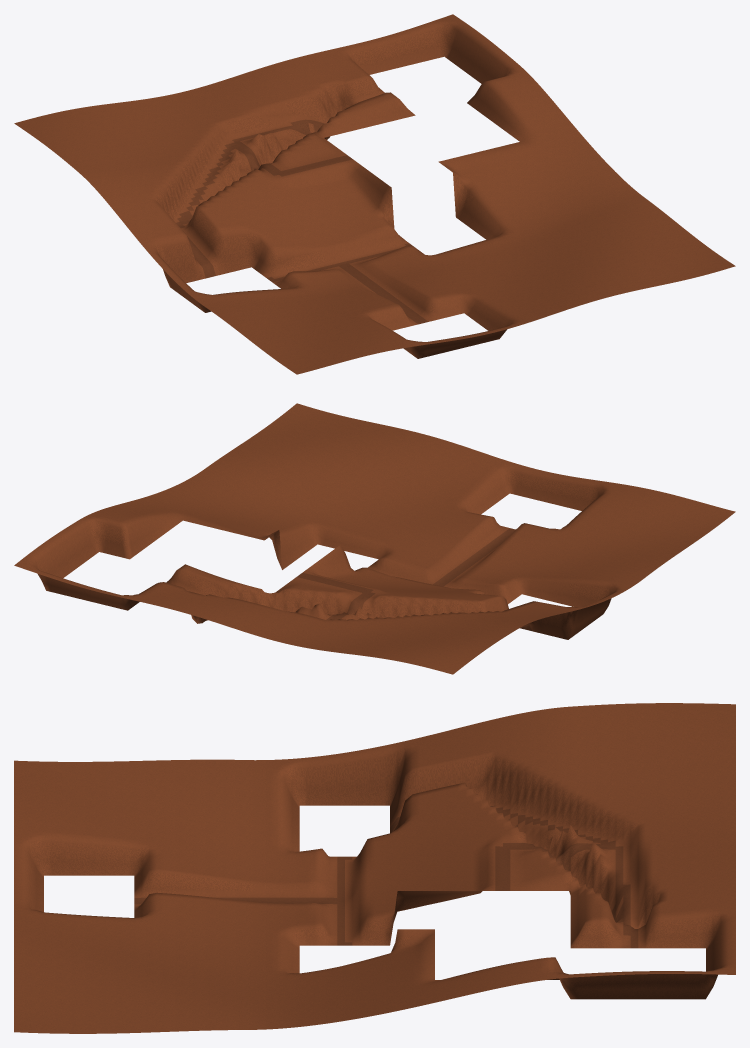
The model's file is level_site_wld_03_terrain.glb.
3 renders of one model, top to bottom at view 1: azimuth 30°, elevation 25°; view 2: azimuth 150°, elevation 25°; view 3: azimuth 270°, elevation 25°, orthographic. The views are drawn at different scales.
Parts seen in each view (by area): view 1: level_site_wld_03_terrain; view 2: level_site_wld_03_terrain; view 3: level_site_wld_03_terrain.
Boxes of the visible parts, left/top/right/bottom form: level_site_wld_03_terrain: left=14, top=14, right=735, bottom=374; level_site_wld_03_terrain: left=14, top=403, right=735, bottom=674; level_site_wld_03_terrain: left=14, top=703, right=735, bottom=1033.
Size of the model in its own units: 86 by 13.58 by 96.
Materials: 2 (2 with a texture image).
